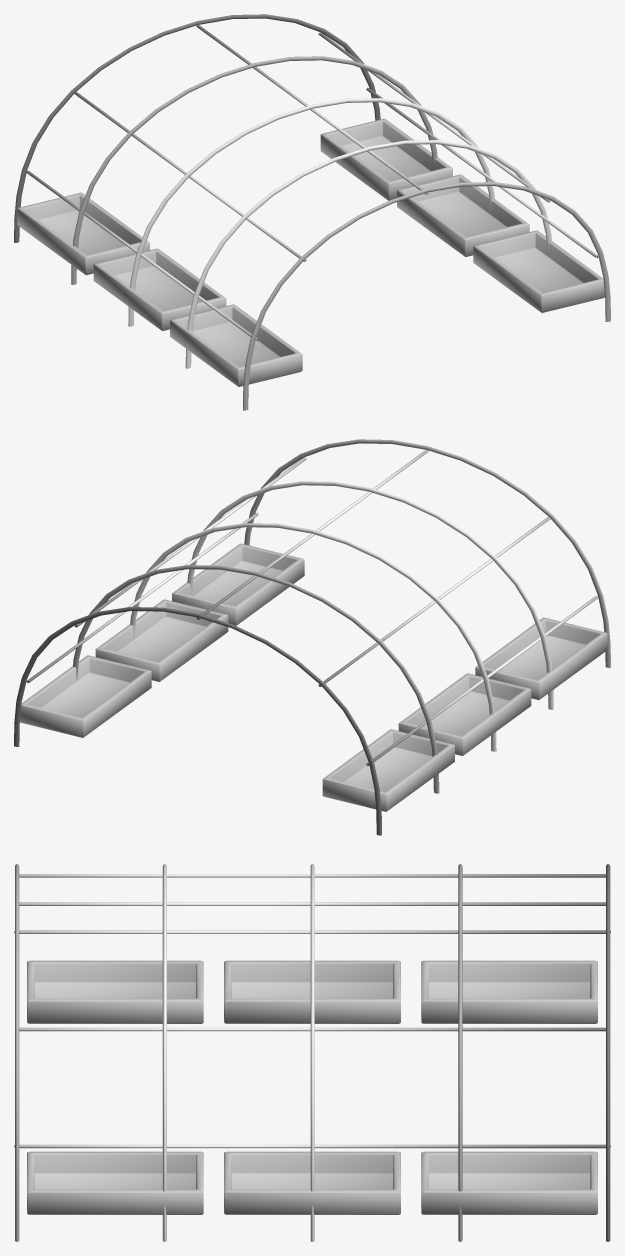
The model's file is troughfeeding.fbx.
The picture shows the model from 3 angles, top to bottom: view 1: azimuth 30°, elevation 25°; view 2: azimuth 150°, elevation 25°; view 3: azimuth 270°, elevation 25°; orthographic projection. The views are drawn at different scales.
Visible parts, largest first — view 1: model_0:Mesh, Mesh, Mesh.001; view 2: model_0:Mesh, Mesh, Mesh.001; view 3: Mesh, Mesh.001, model_0:Mesh.
Boxes of the visible parts, left/top/right/bottom form: model_0:Mesh: left=14, top=14, right=610, bottom=410; Mesh: left=320, top=118, right=604, bottom=312; Mesh.001: left=17, top=192, right=302, bottom=386; model_0:Mesh: left=14, top=439, right=610, bottom=835; Mesh: left=20, top=543, right=304, bottom=737; Mesh.001: left=322, top=617, right=607, bottom=811; Mesh: left=27, top=1151, right=597, bottom=1214; Mesh.001: left=27, top=960, right=597, bottom=1023; model_0:Mesh: left=14, top=864, right=610, bottom=1241.
Bounding box in the file's own units: 1487 × 681 × 1614.
